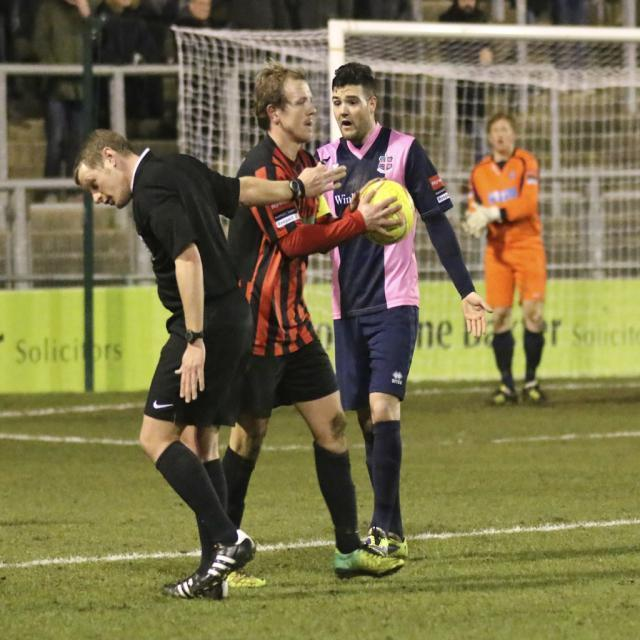football: (351, 173, 418, 247)
